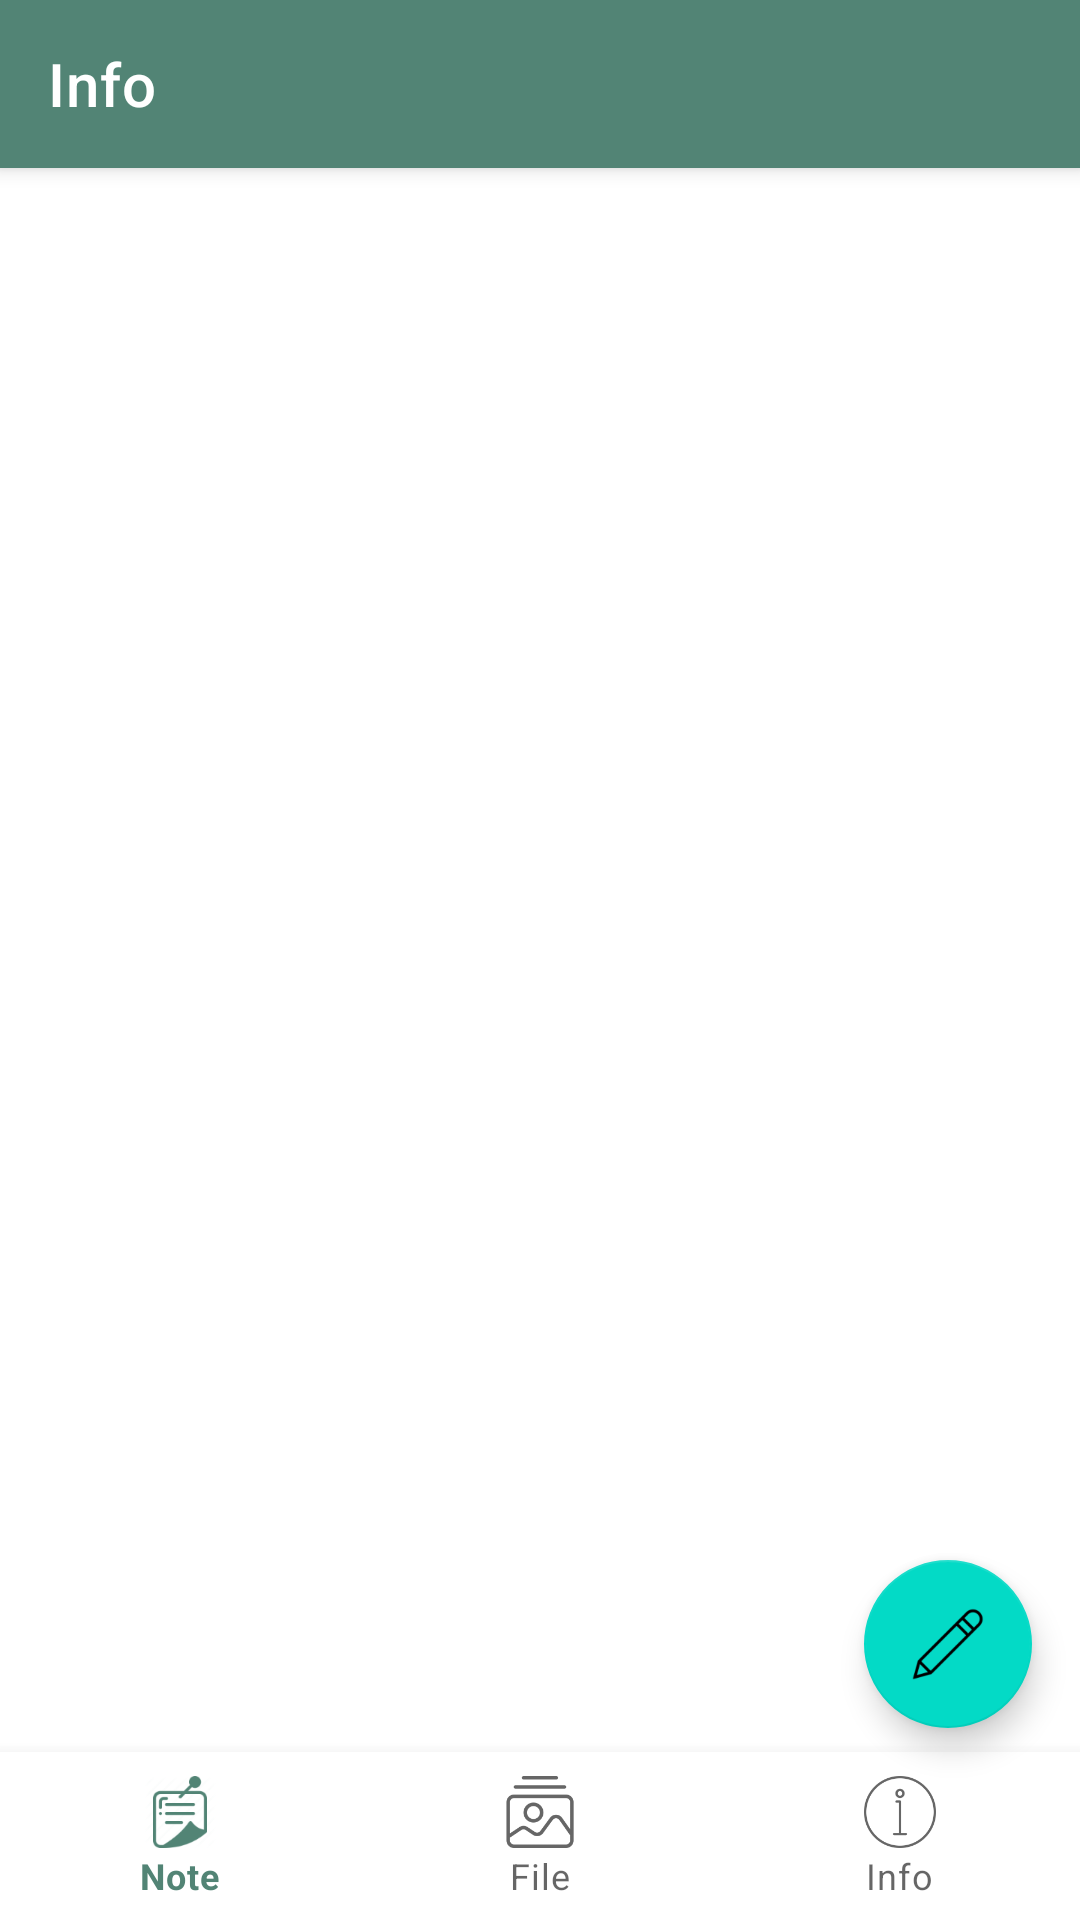

Icons on this 1080px×1920px Android screen, each with the point to tap as point (x, y):
fab note: point (948, 1644)
